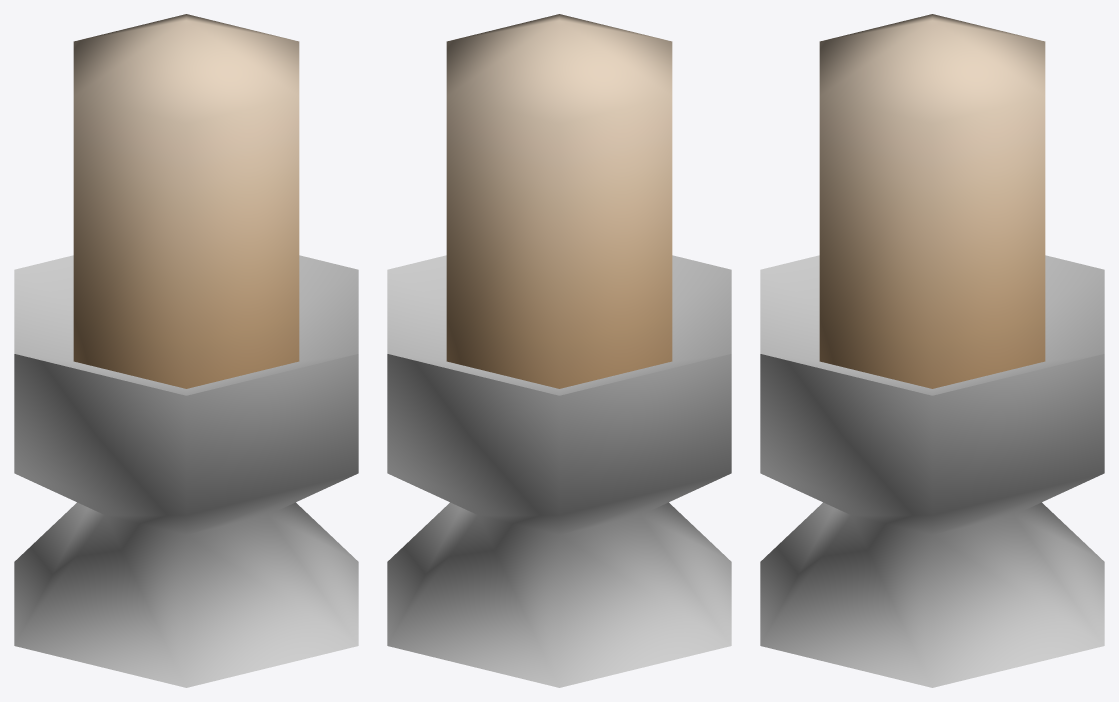
The model's file is Candle_B.fbx.
The picture shows the model from 3 angles, left to right: view 1: azimuth 30°, elevation 25°; view 2: azimuth 150°, elevation 25°; view 3: azimuth 270°, elevation 25°; orthographic projection.
Parts seen in each view (by area): view 1: Candle_B; view 2: Candle_B; view 3: Candle_B.
Boxes of the visible parts, x1=… form: Candle_B: x1=14, y1=14, x2=358, y2=687; Candle_B: x1=387, y1=14, x2=731, y2=687; Candle_B: x1=760, y1=14, x2=1104, y2=687.
Size of the model in its own units: 0.0367 by 0.0594 by 0.0318.
